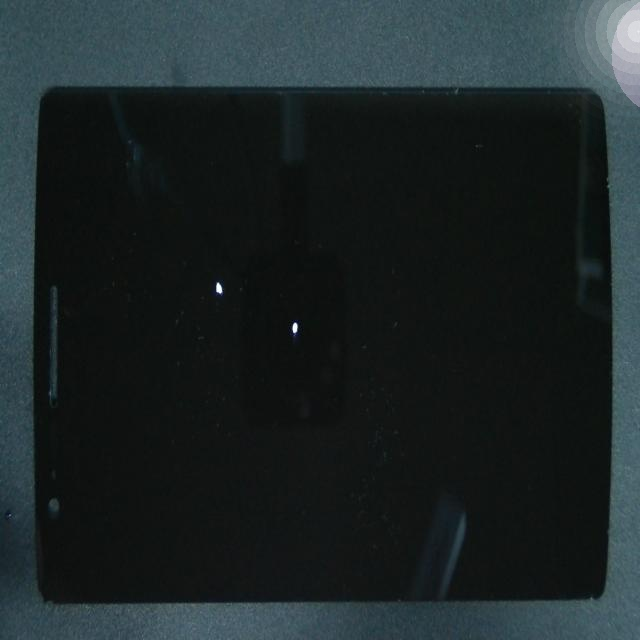stain: (148, 120, 428, 461), (119, 94, 319, 388)
